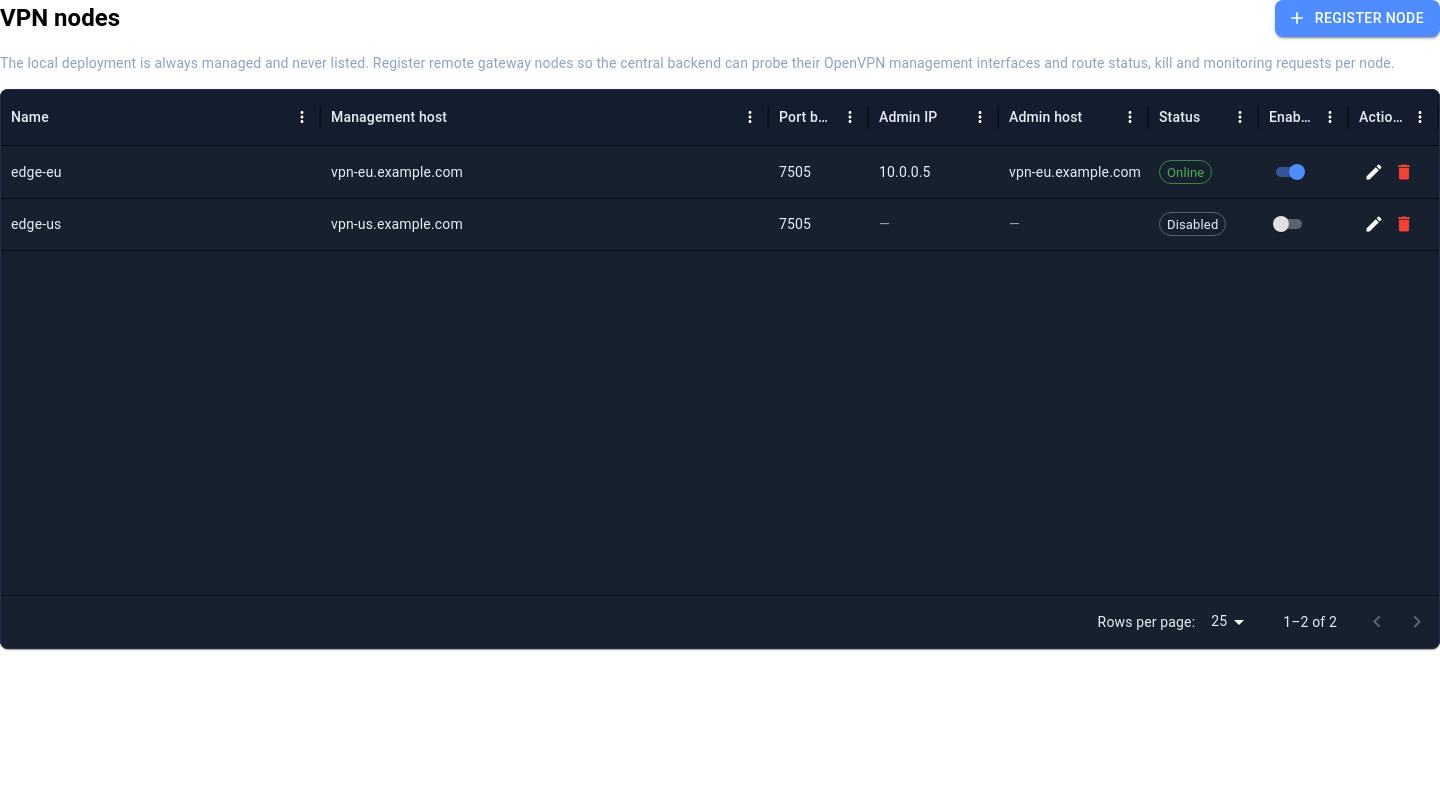
Scenario: NodesPage › rejects an out-of-range port in the form
Check: the text "edge-eu" is shown, box [11,164,62,180]
Click the button "Register node": point(1357, 18) [1275,0,1439,36]
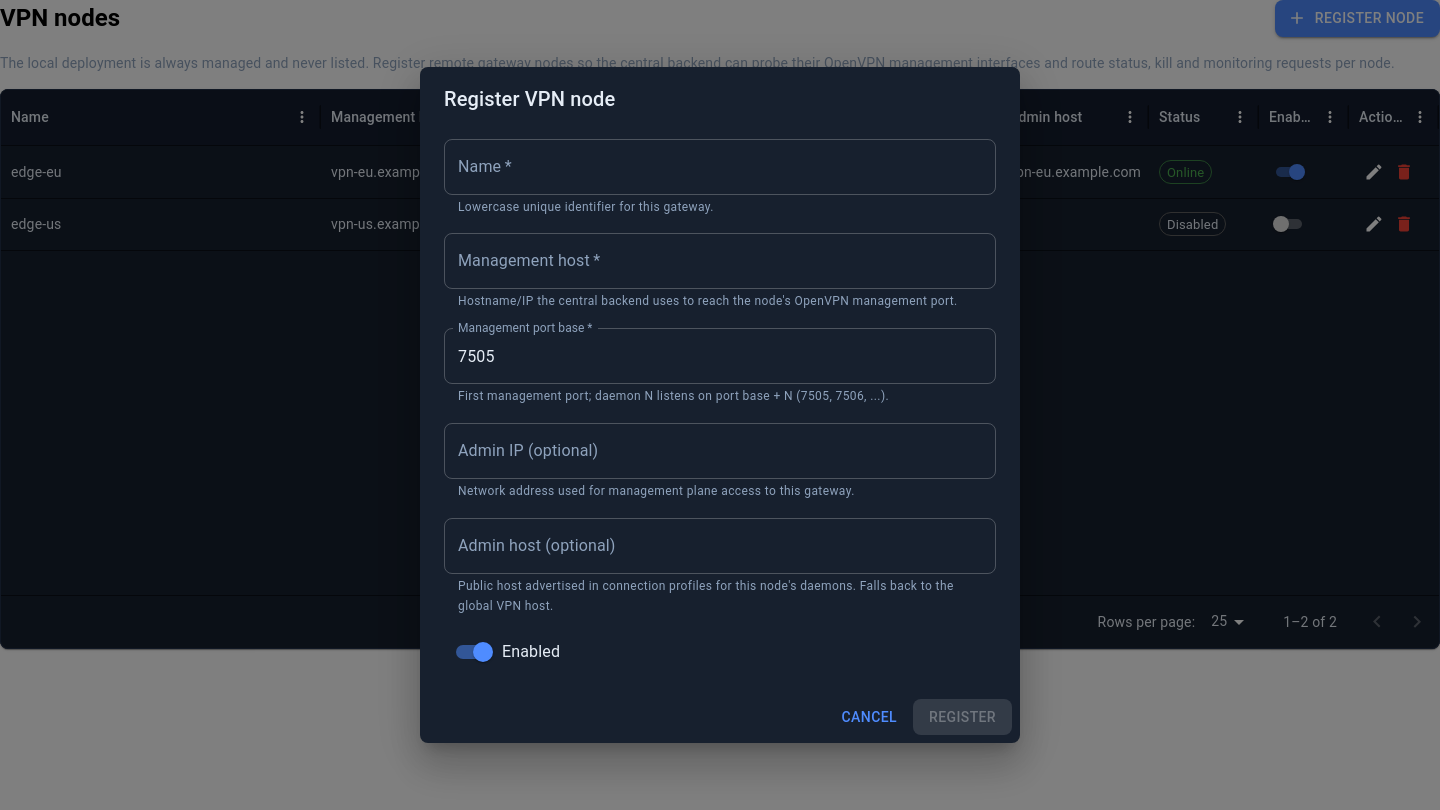
In the field labelled "Name *": point(720, 166) [444,138,996,194], type "edge-ap"
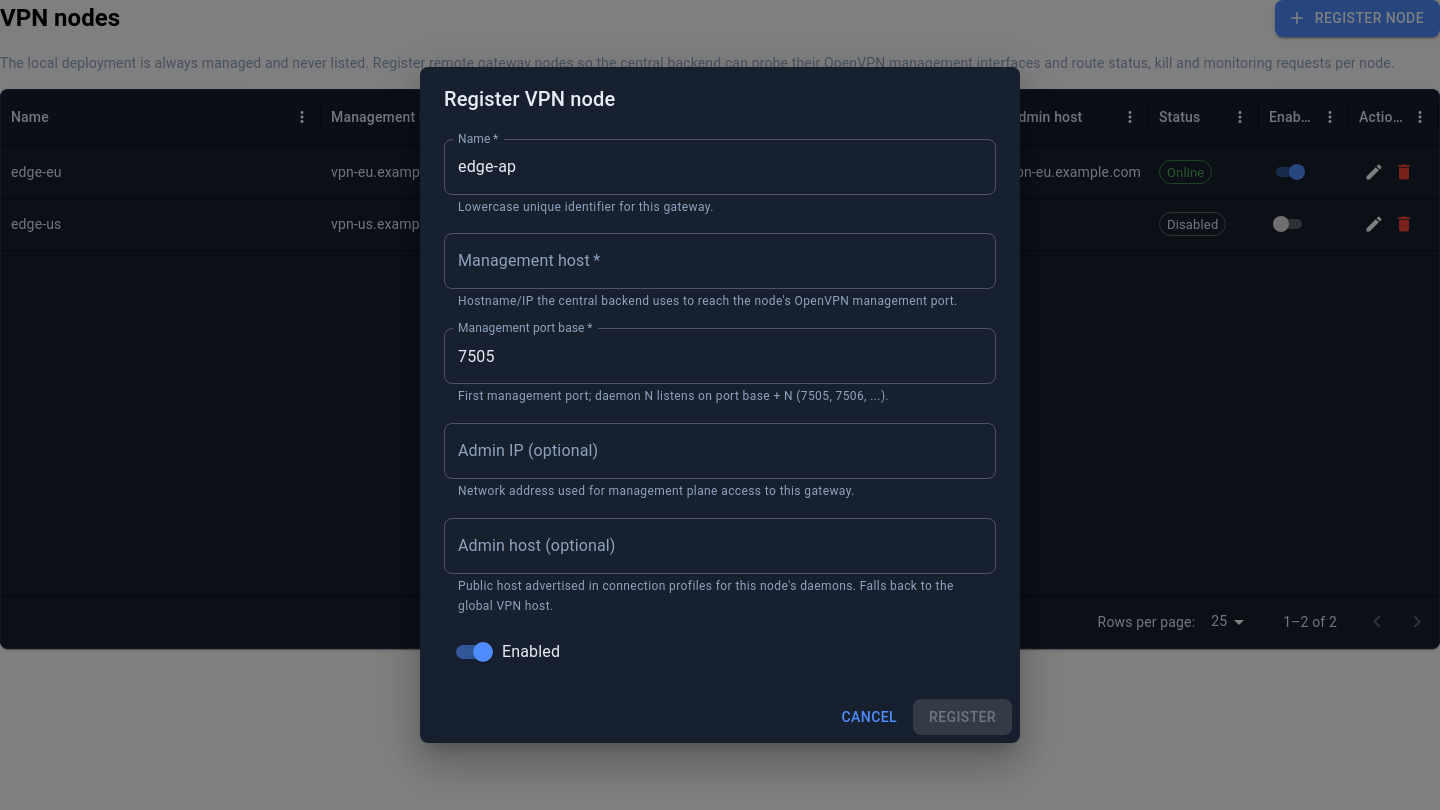
In the field labelled "Management host *": point(720, 261) [444,233,996,289], type "vpn-ap.example.com"
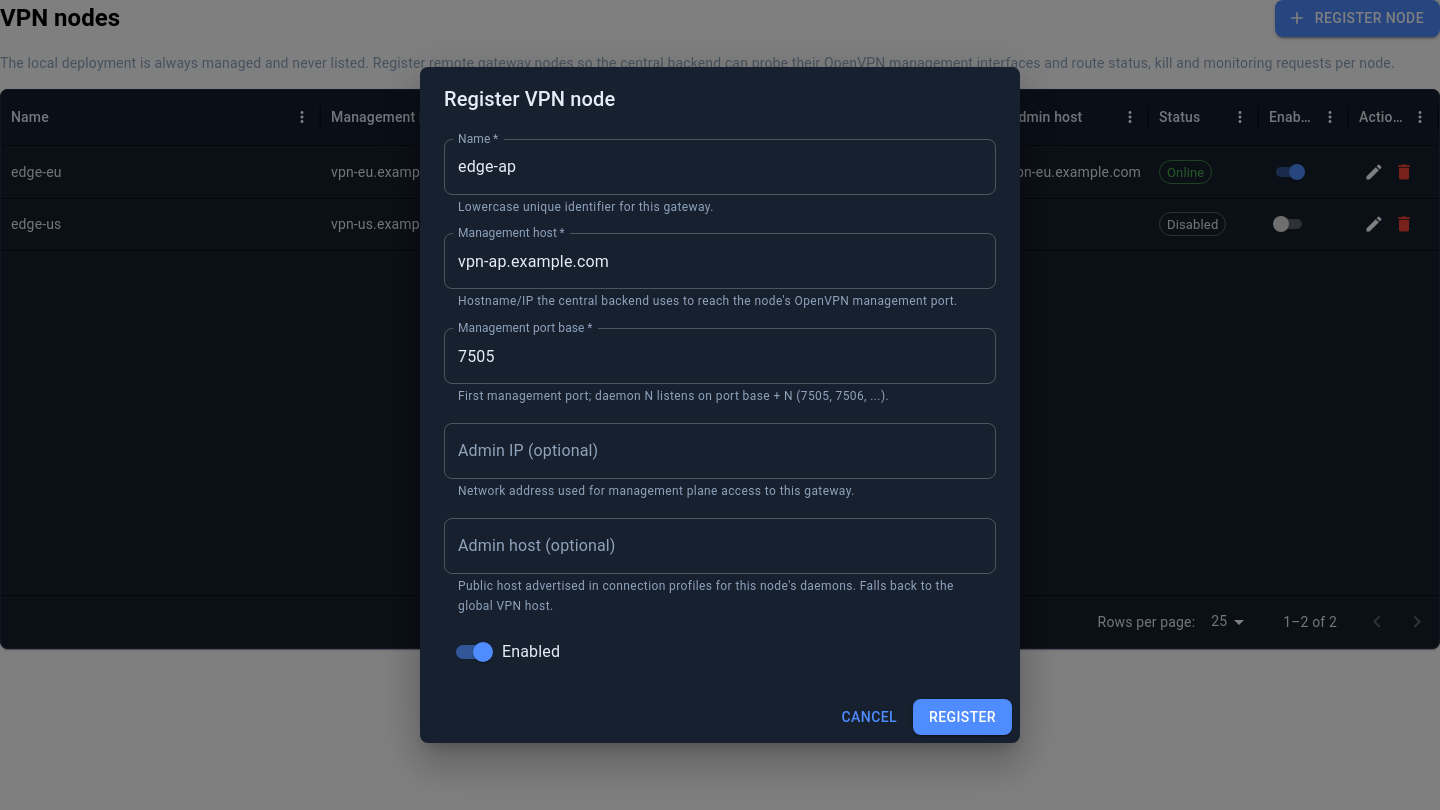
Replace the text in the number field labelled "Management port base *" with "70000": point(720, 356) [444,328,996,384]
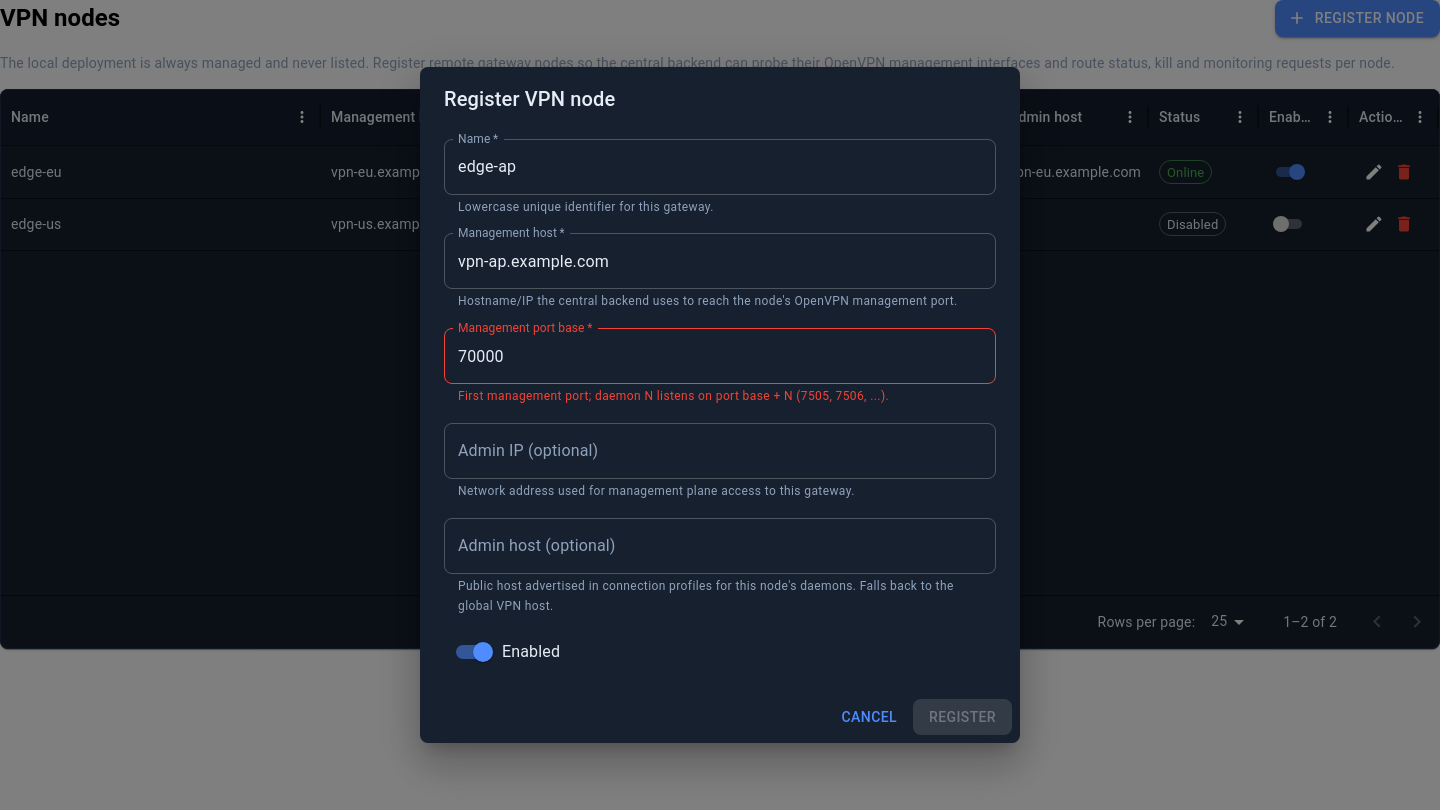
Check: the button "Register" is disabled, box [913,699,1012,736]
